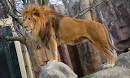lion: (17, 1, 118, 72)
